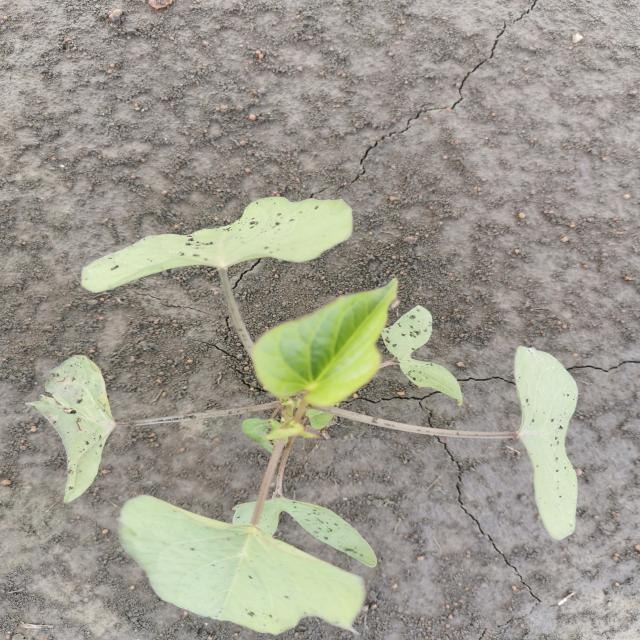MorningGlory: (23, 194, 586, 636)
